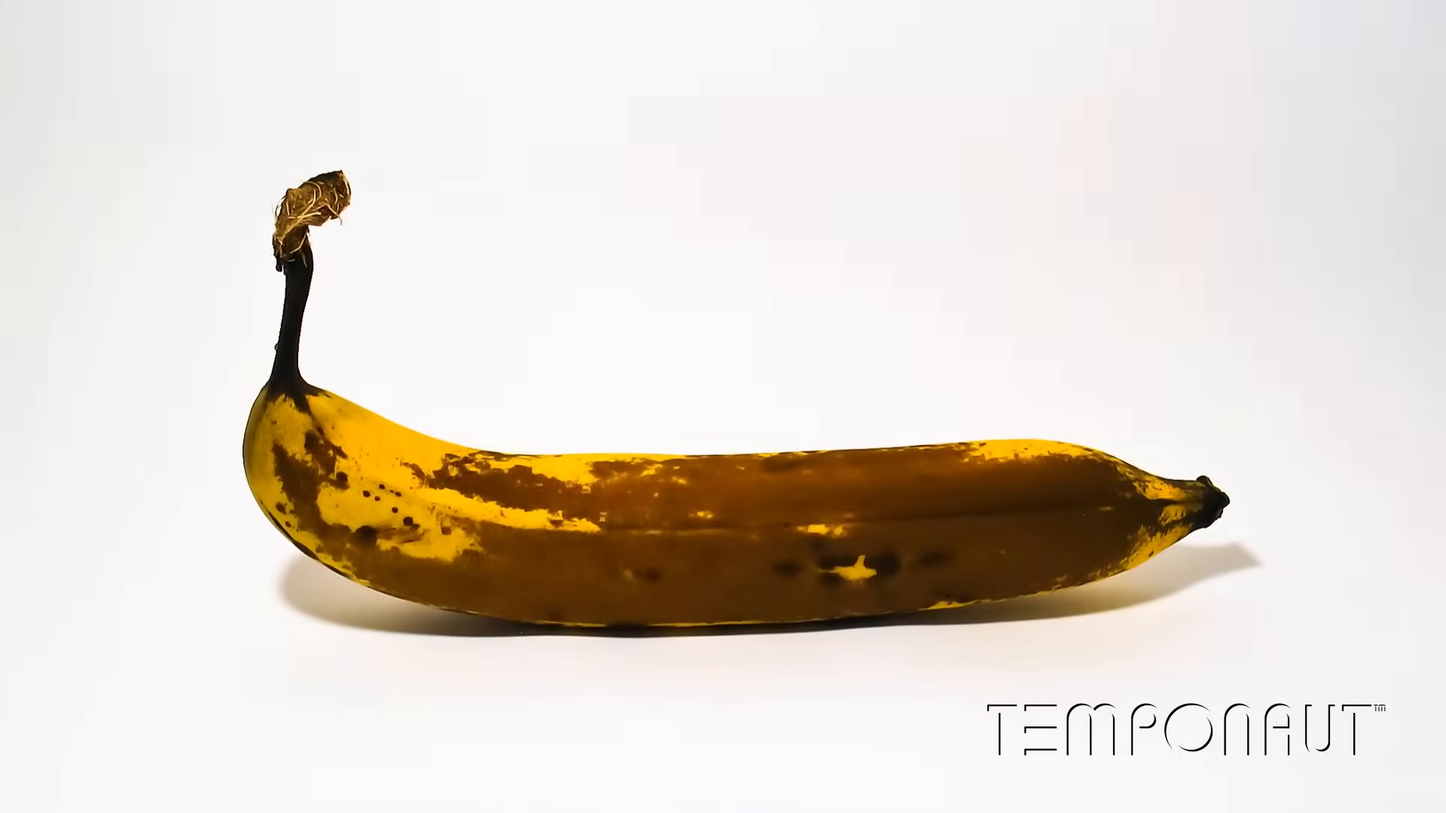banana_rotten: (240, 169, 1231, 635)
